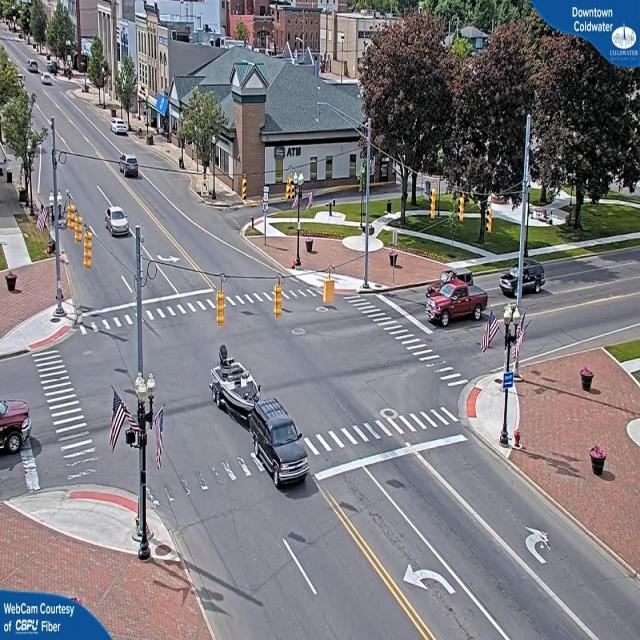car: (253, 404, 309, 489), (428, 276, 488, 327), (498, 264, 547, 298), (106, 208, 131, 237), (119, 154, 140, 178), (112, 121, 129, 136), (28, 60, 40, 74), (43, 75, 54, 87)
